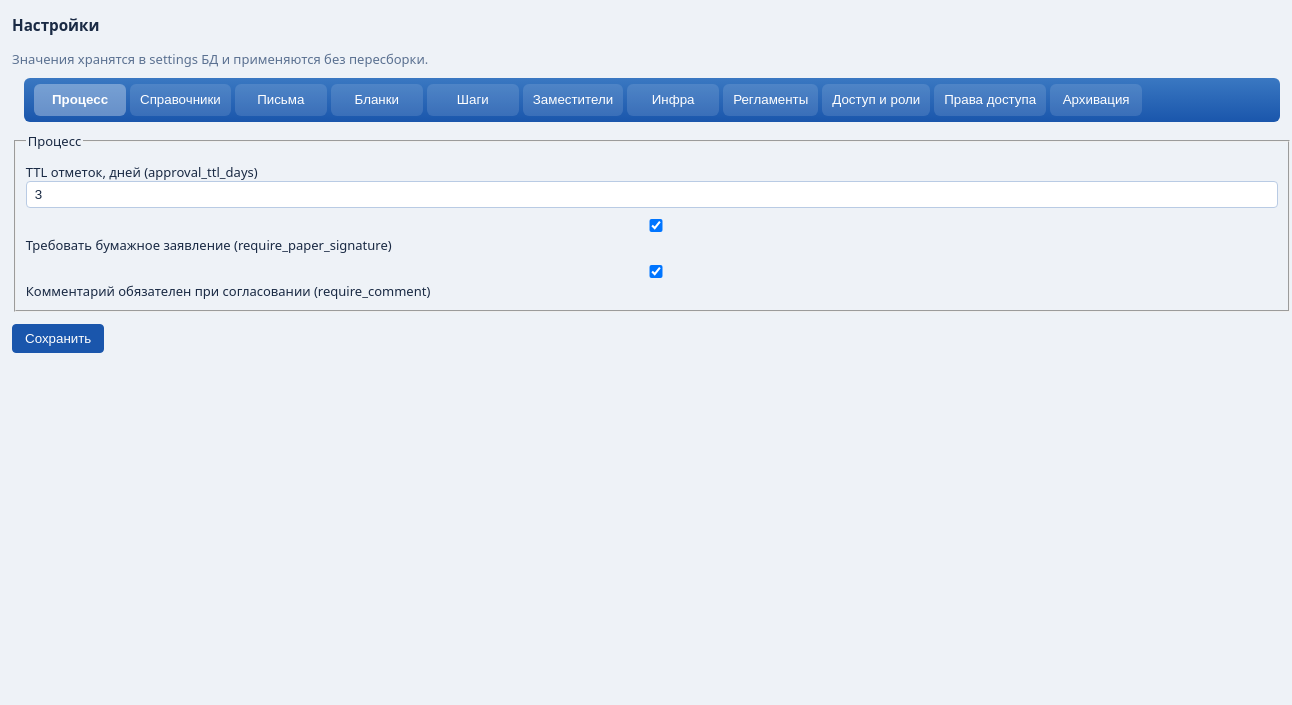
Test: AdminSettings › загружает полный объект настроек (контент)
Expected: the number field labelled "TTL отметок" is shown, [26, 181, 1278, 208]
Expected: the checkbox labelled "Комментарий обязателен при согласовании" is checked, [30, 265, 1282, 278]
Click the button "Справочники": {"x": 180, "y": 100} [130, 84, 231, 116]
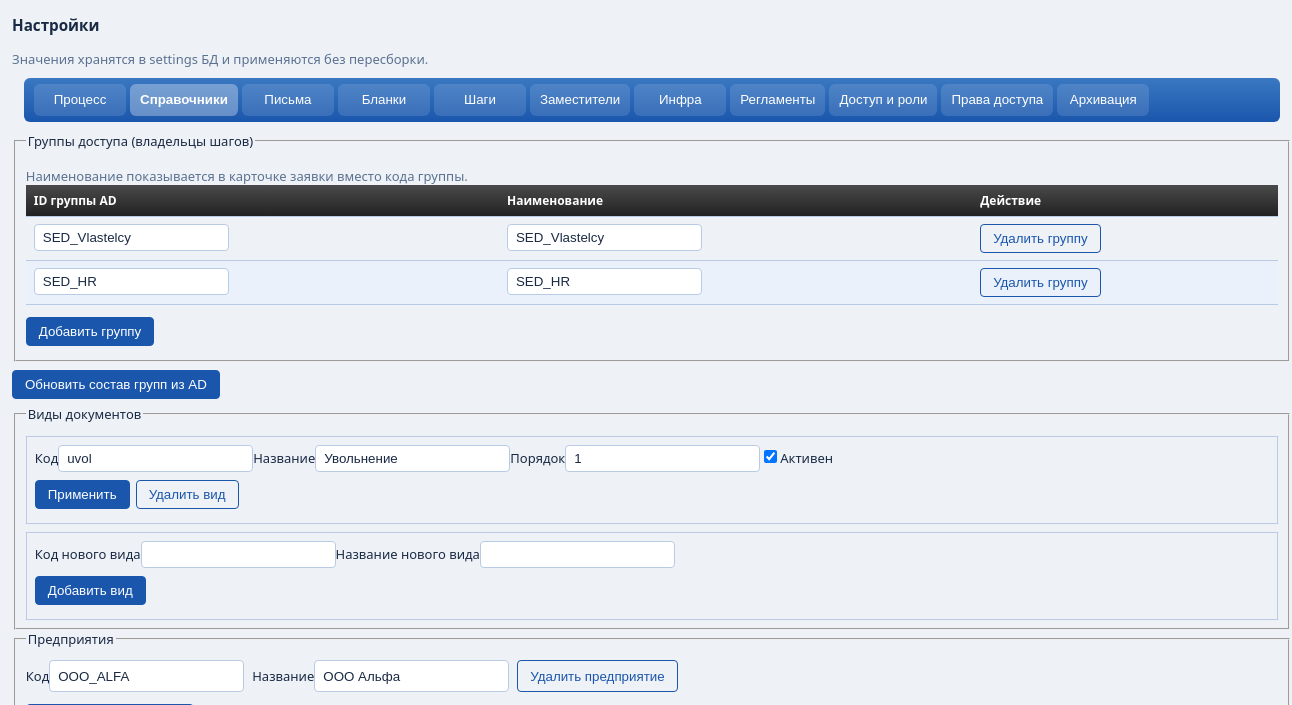
Result: the field named "Код предприятия 1" holds "OOO_ALFA" at [49, 660, 244, 692]
Result: the field named "Название предприятия 1" holds "ООО Альфа" at [314, 660, 509, 692]
Result: the field named "ID группы 1" holds "SED_Vlastelcy" at [34, 224, 229, 251]
